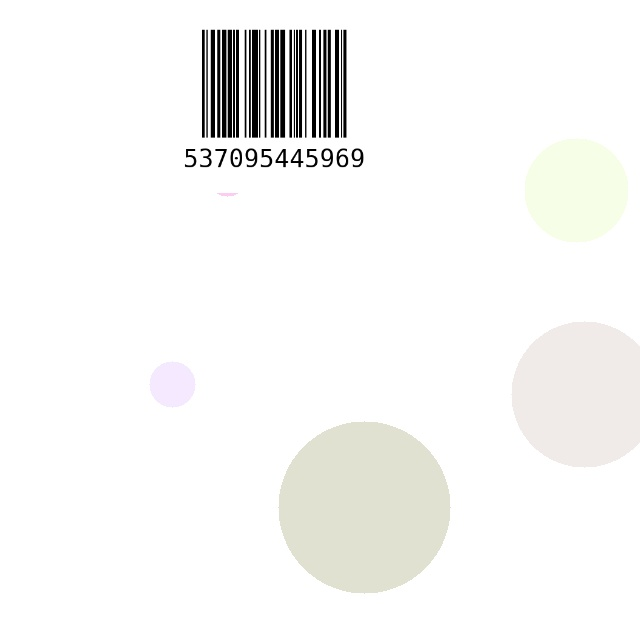barcode: (184, 23, 365, 193)
